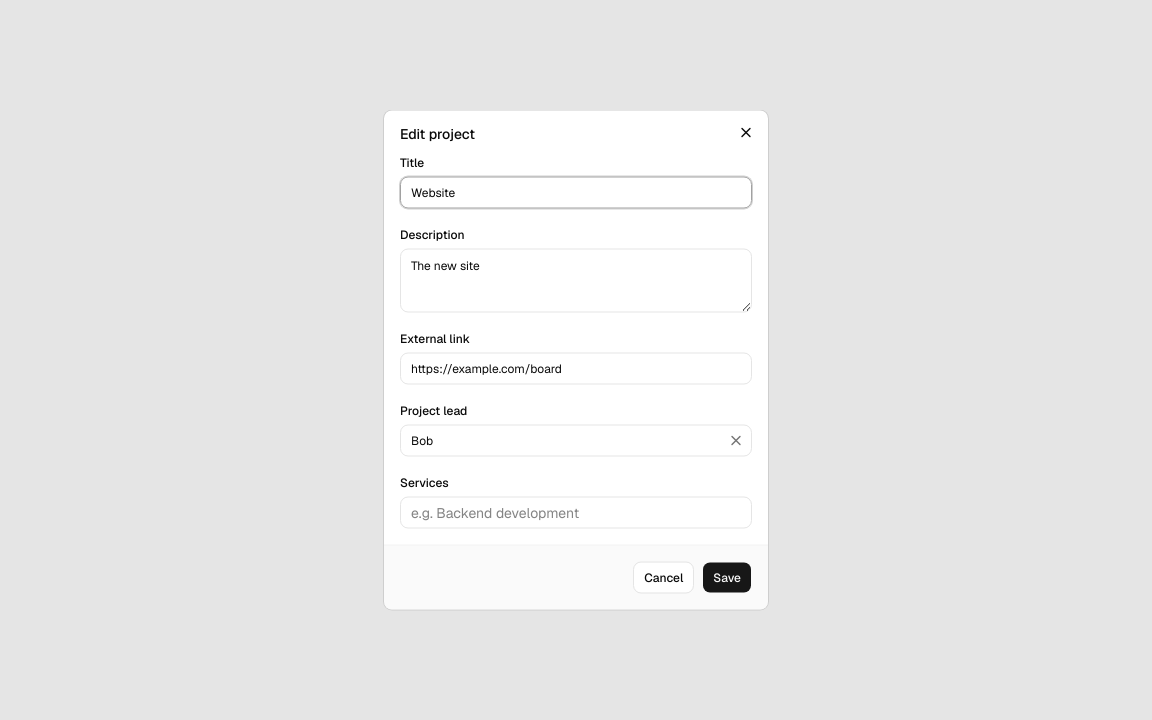
it: ProjectFormDialog: edit (feat-prj-web) › AC-10 FR-PRJ-004 FR-PRJ-006: saved values; cleared lead → both null; API field error under the lead; 500 → toast; pending disables Save
Check: the heading "Edit project" is shown, box [400,124,475,142]
Check: the field labelled "Title" holds "Website", box [400,176,752,208]
What coordinates should you click on to do the following:
click the button named "Clear project lead"
I would click on:
 (736, 440)
Its box is [724,424,748,456].
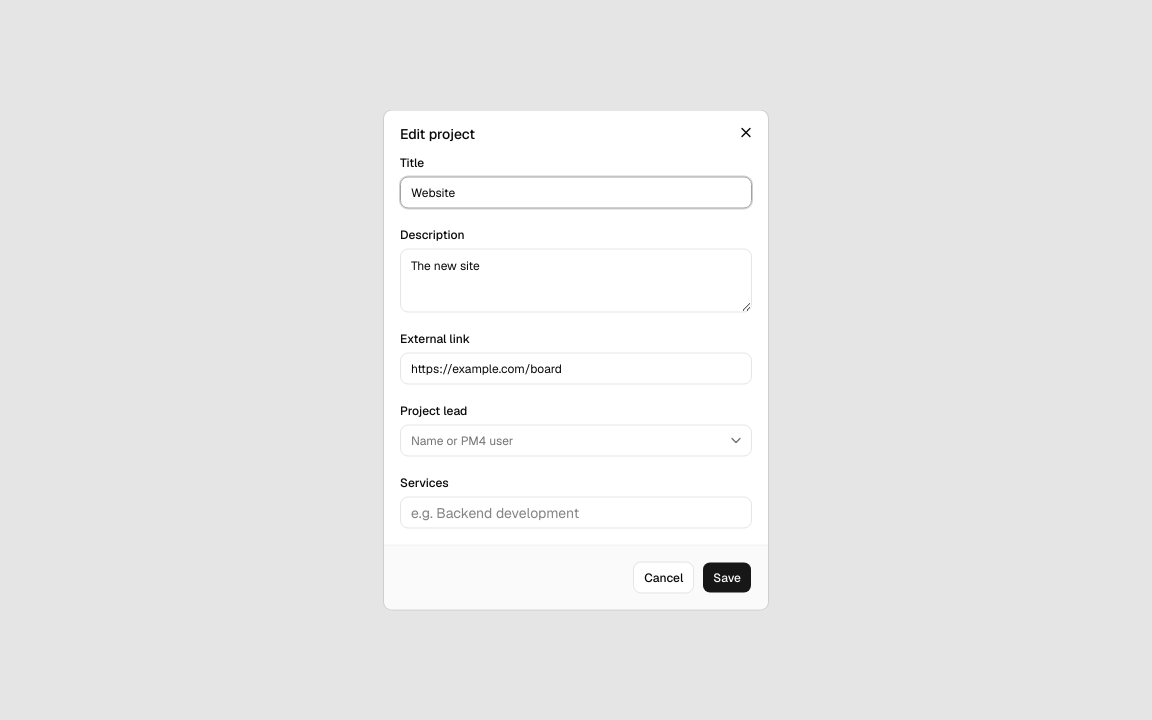
What coordinates should you click on to do the following:
click the button "Save"
I would click on:
 (727, 578)
Its box is [702,562,752,594].
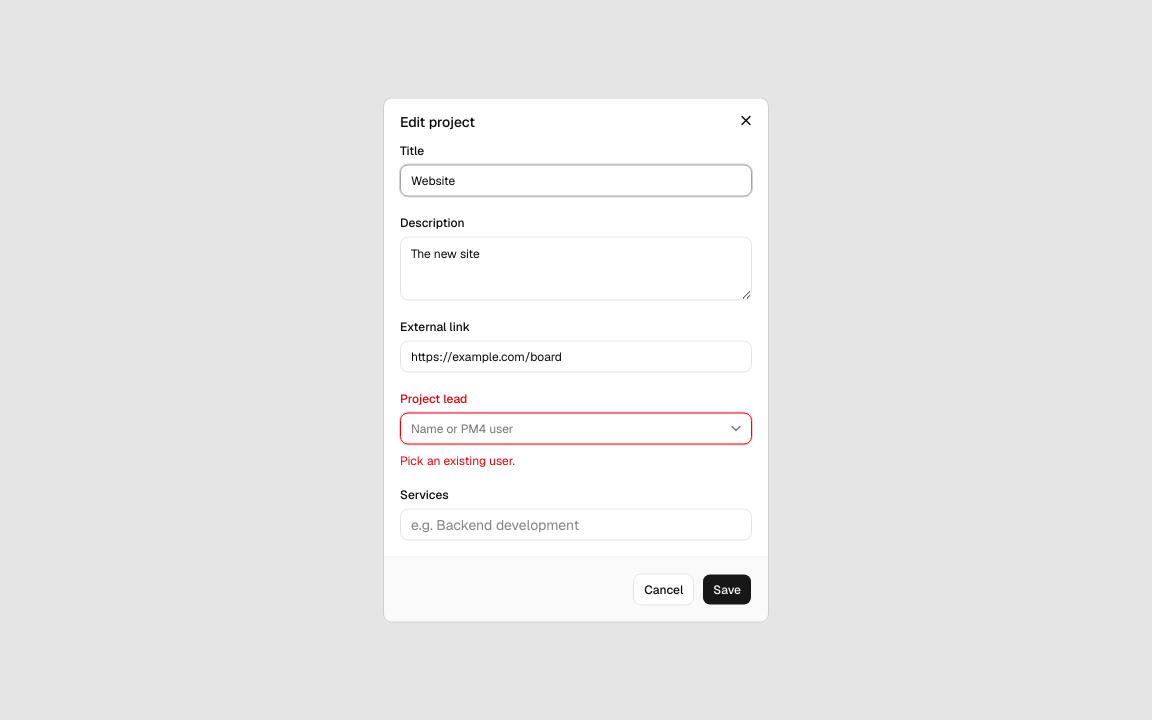
Check: the text "Pick an existing user." is shown, box [400,452,515,468]
What coordinates should you click on to do the following:
click the button "Save"
I would click on:
 (727, 590)
Its box is [702,574,752,606].
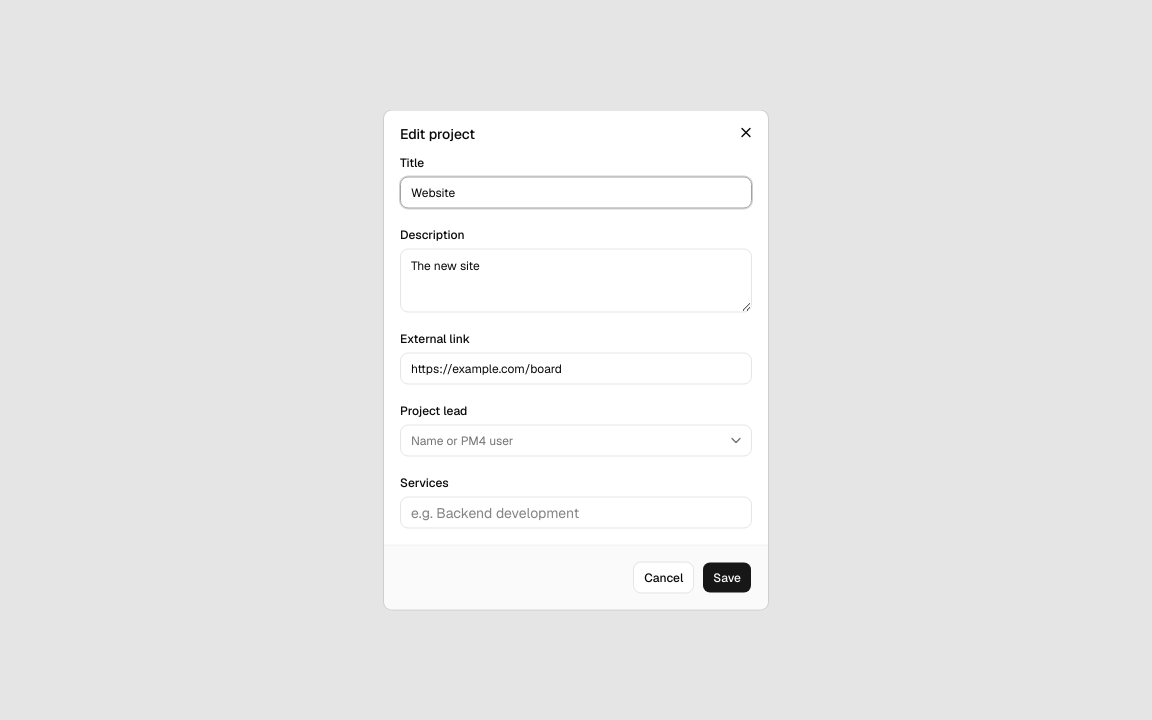
What coordinates should you click on to do the following:
click the button "Save"
I would click on:
 (727, 578)
Its box is [702,562,752,594].
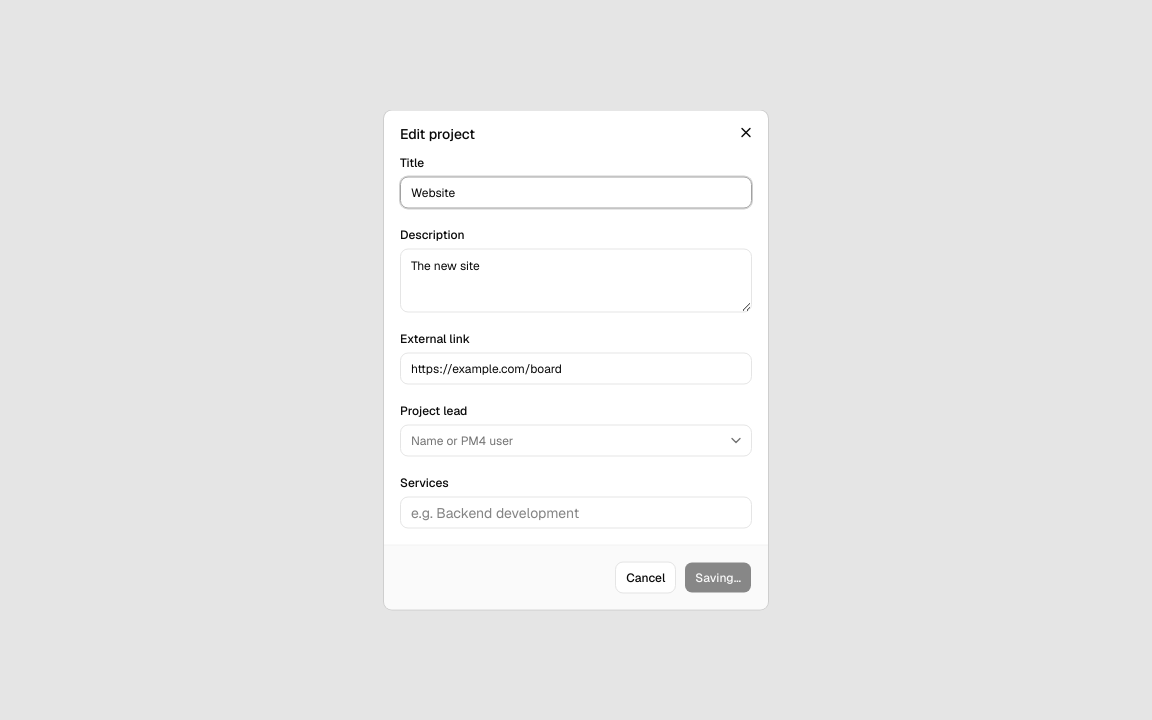
Check: the button "Saving…" is disabled, box [684,562,752,594]
